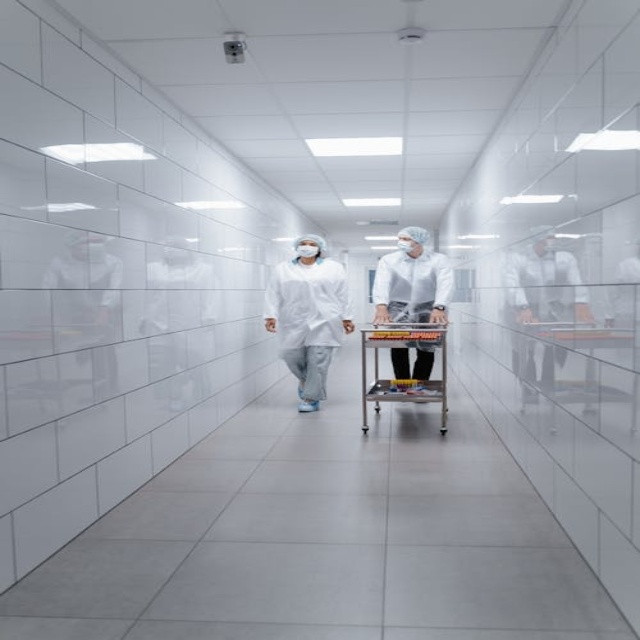Mascara: (294, 247, 320, 259), (394, 241, 415, 252)
Sin_gafas: (296, 238, 320, 247), (397, 234, 415, 242)
Sin_guantes: (369, 301, 394, 325), (424, 304, 449, 326), (260, 316, 282, 335), (338, 318, 360, 333)
